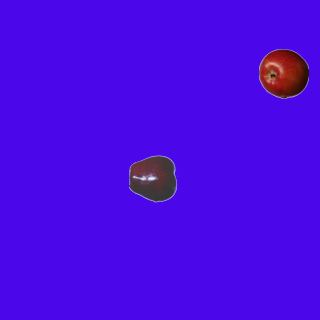Apple Braeburn: (258, 48, 308, 98)
Apple Red Delicious: (128, 153, 178, 203)
